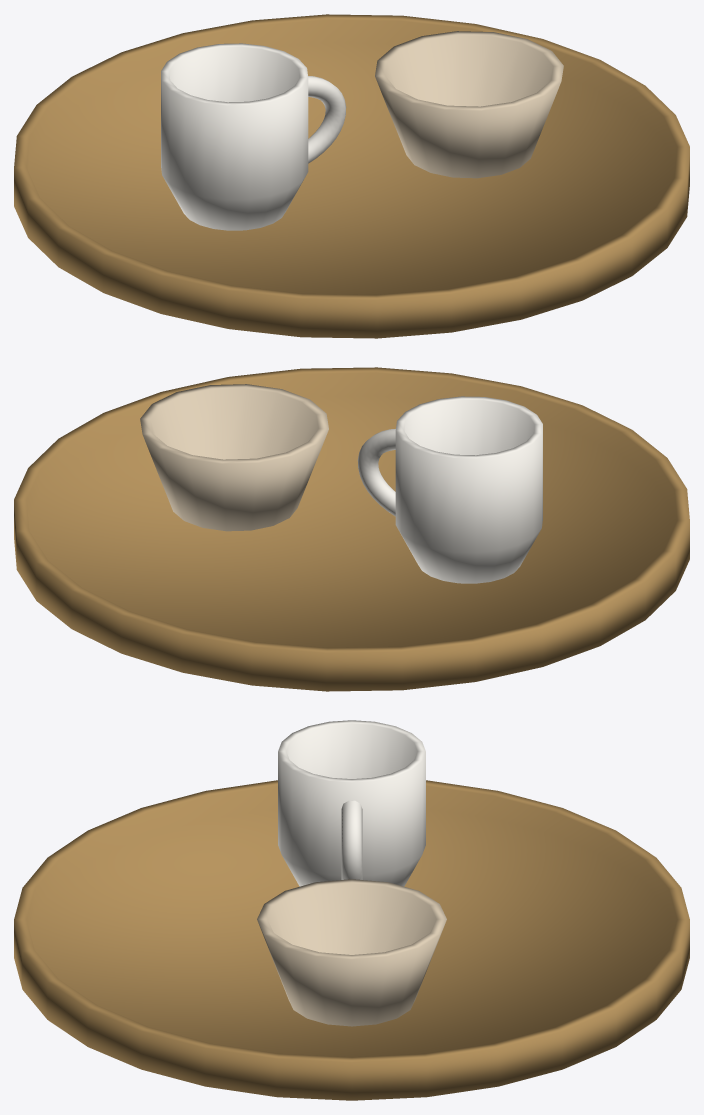
Rendered from i_tray_3.glb.
The picture shows the model from 3 angles, top to bottom: view 1: azimuth 30°, elevation 25°; view 2: azimuth 150°, elevation 25°; view 3: azimuth 270°, elevation 25°; orthographic projection.
Parts seen in each view (by area): view 1: o, o.001, o.003, o.002; view 2: o, o.001, o.003, o.002; view 3: o, o.003, o.001, o.002.
Part boxes in pixels (bbox=[...]): o: bbox=[14, 14, 689, 338]; o.001: bbox=[161, 43, 308, 230]; o.003: bbox=[375, 31, 563, 178]; o.002: bbox=[308, 76, 346, 163]; o: bbox=[14, 367, 689, 691]; o.001: bbox=[395, 396, 542, 583]; o.003: bbox=[140, 384, 328, 531]; o.002: bbox=[357, 429, 395, 516]; o: bbox=[14, 780, 689, 1100]; o.003: bbox=[257, 879, 446, 1026]; o.001: bbox=[278, 720, 425, 886]; o.002: bbox=[341, 800, 362, 879].
Size of the model in its own units: 0.32 by 0.078 by 0.32.
